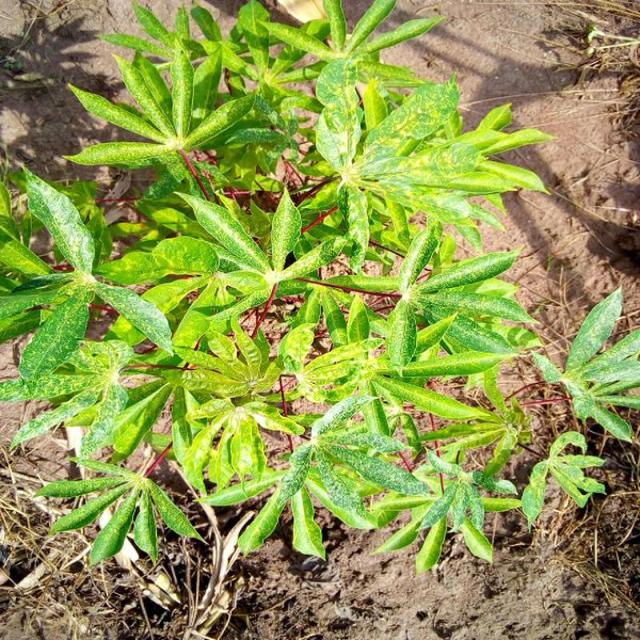cassava leaf: (2, 1, 634, 578)
